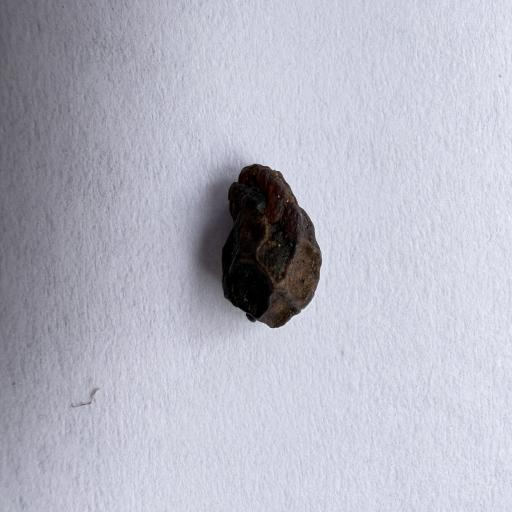Black_pepper: (214, 135, 340, 337)
